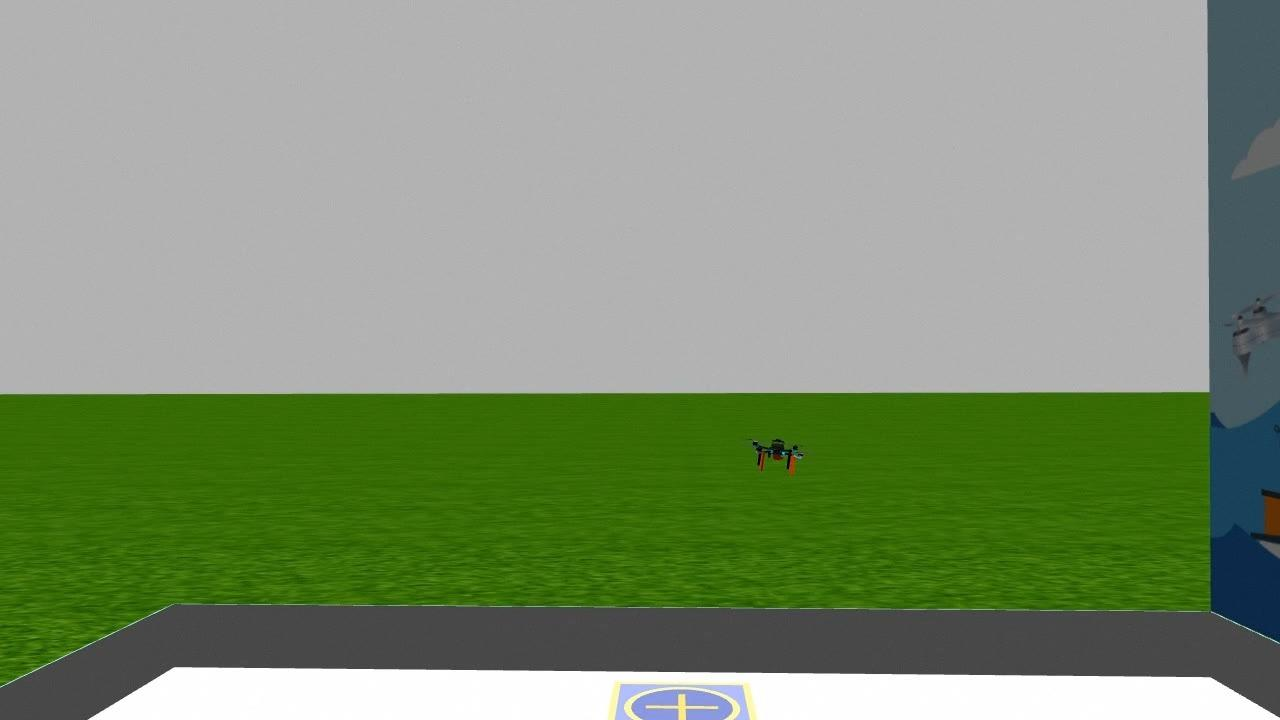UAV: (725, 422, 831, 491)
